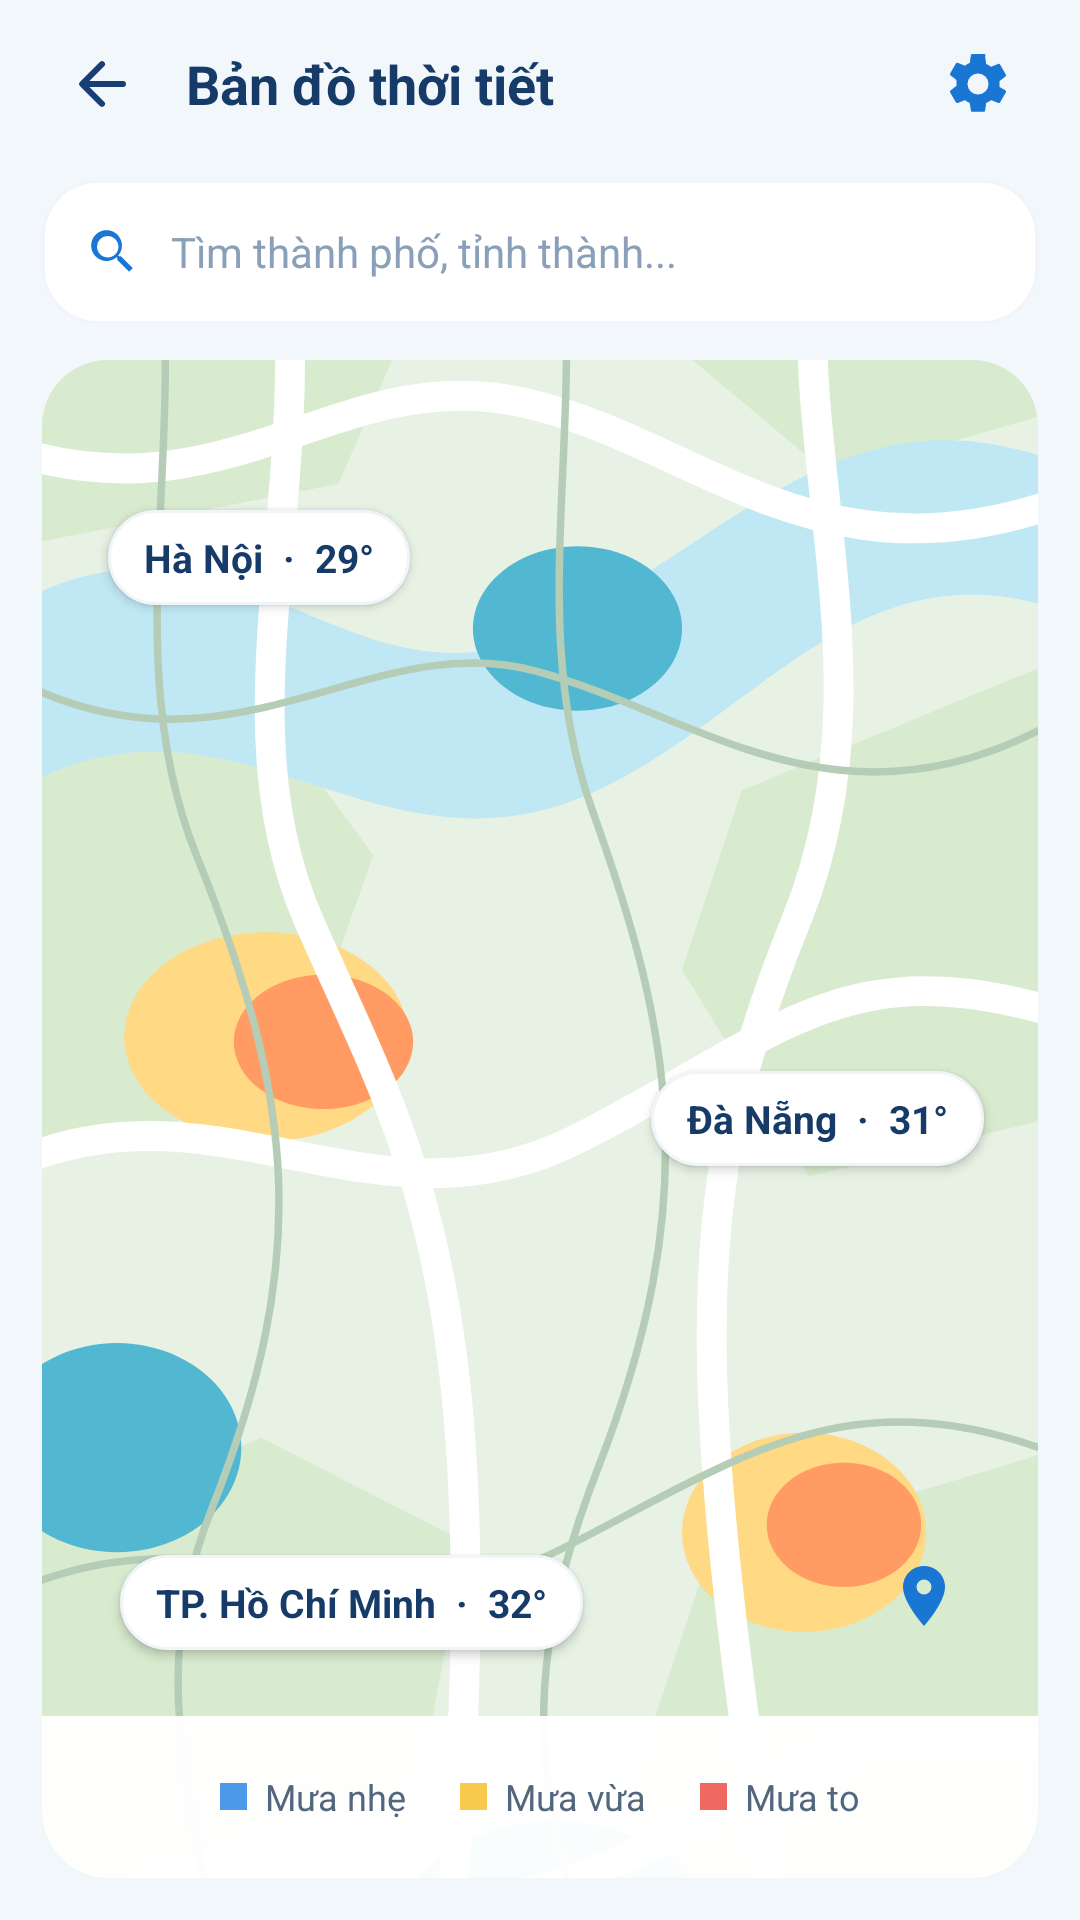

Named icons in this screenshot (1080x1920) and their centers, (x=x, y=y):
Cài đặt bản đồ: (x=978, y=83)
Quay lại: (x=102, y=84)
Tìm kiếm: (x=112, y=251)
